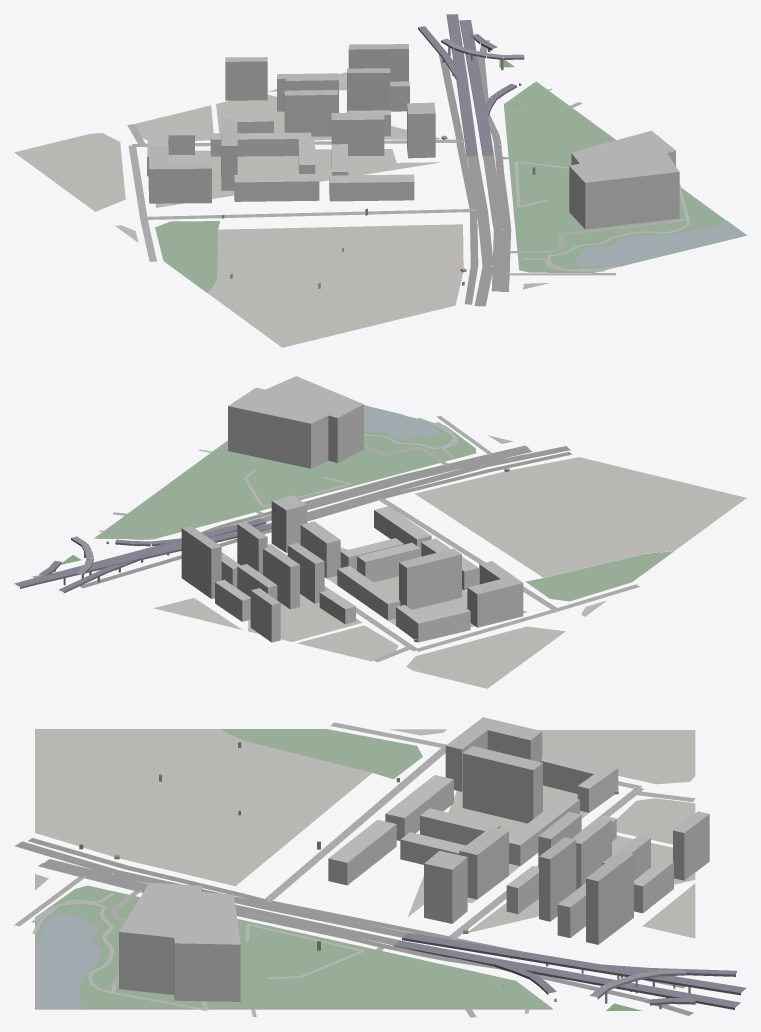
The picture shows the model from 3 angles, top to bottom: view 1: azimuth 30°, elevation 25°; view 2: azimuth 150°, elevation 25°; view 3: azimuth 270°, elevation 25°; orthographic projection. The views are drawn at different scales.
Bounding box in the file's own units: 526 × 54.49 × 555.
